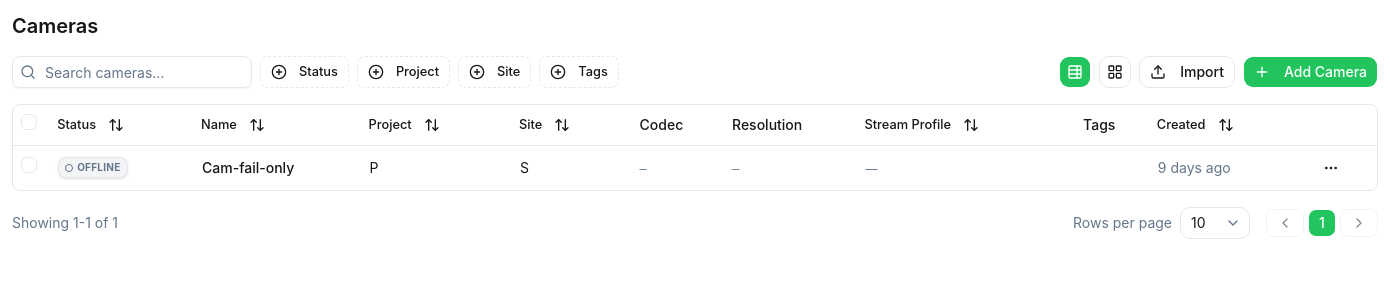
Scenario: TenantCamerasPage — partial failure handling (D-06a) › Failed rows render AlertTriangle error badge in Status column (role=img alt includes error message)
The width and height of the screenshot is (1390, 308).
Check: the text "Cam-fail-only" is shown, box [202,158,294,176]
Click the checkbox named "Select camera Cam-fail-only" at coordinates (29, 165), box [21,157,37,173]
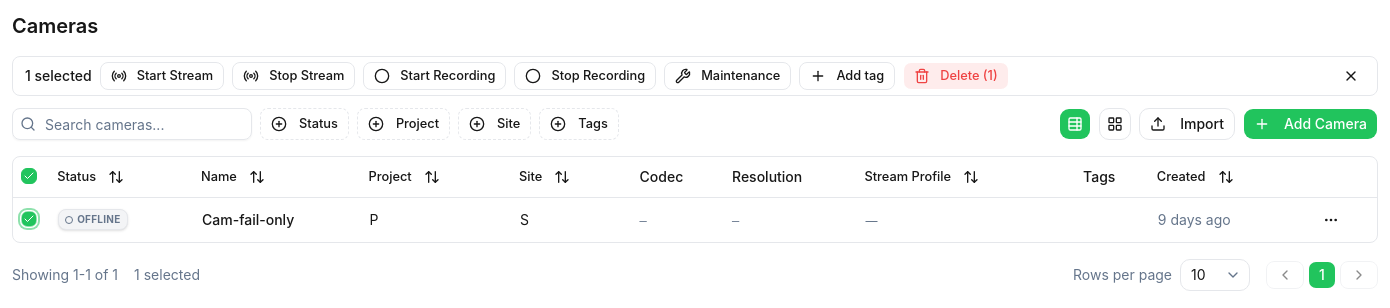
Click the button "Start Stream" at coordinates (162, 76), box [100,62,224,90]
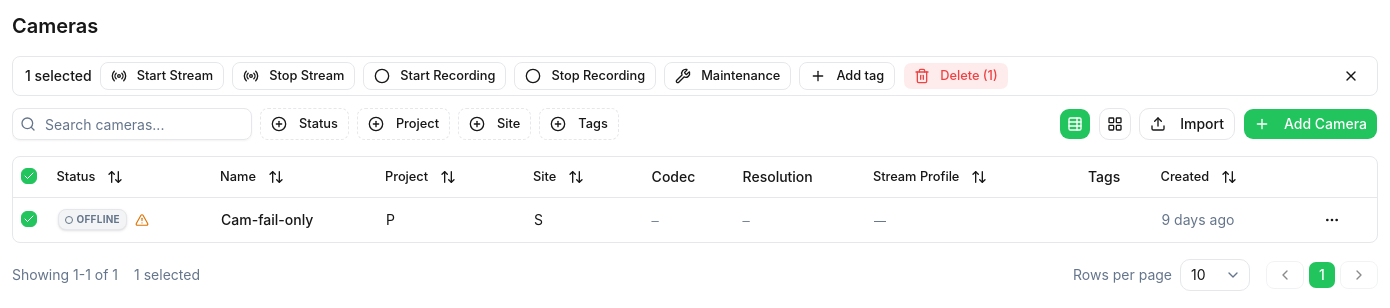
Check: the picture named "bulk action failed: backend exploded" is shown, box [135,212,149,226]
